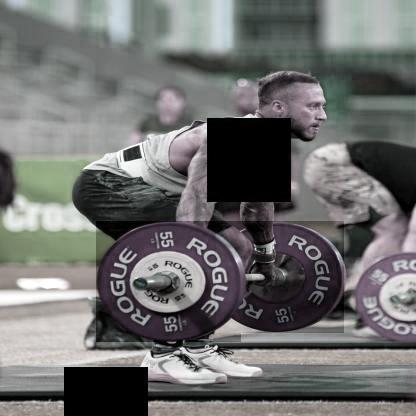barbell: (96, 222, 242, 342), (217, 222, 345, 334)
